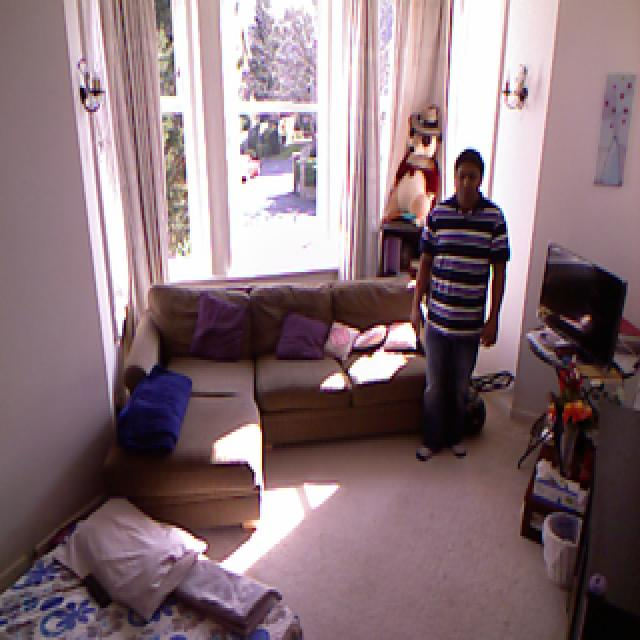standing: (413, 150, 511, 458)
